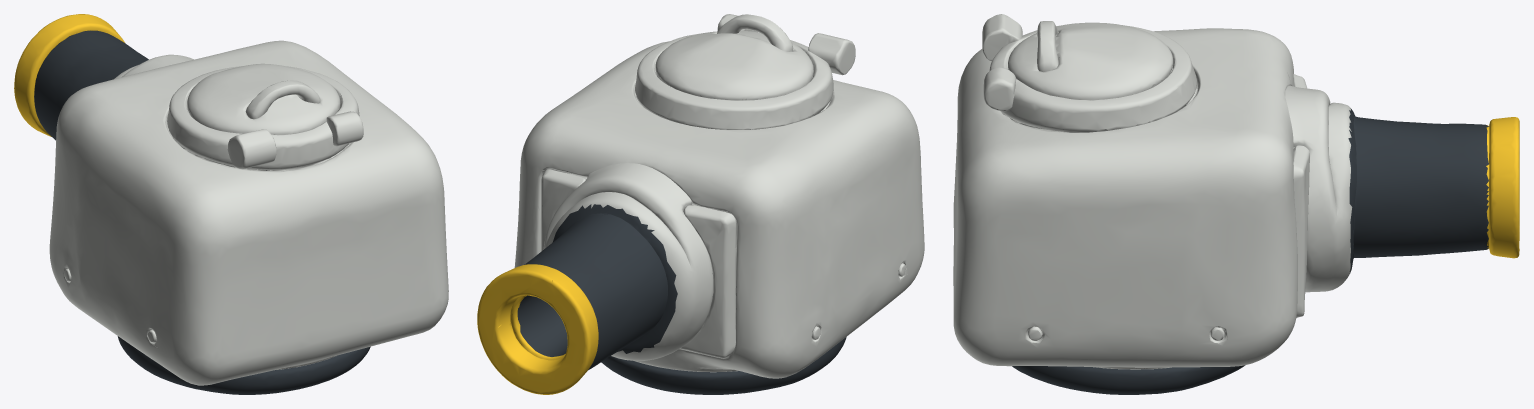
File: cannon_native.glb
3 renders of one model, left to right at view 1: azimuth 30°, elevation 25°; view 2: azimuth 150°, elevation 25°; view 3: azimuth 270°, elevation 25°, orthographic. The views are drawn at different scales.
Parts seen in each view (by area): view 1: Native proportion recolor; view 2: Native proportion recolor; view 3: Native proportion recolor.
Part boxes in pixels (box(x1,y1,x2,y2)): Native proportion recolor: box(14, 14, 448, 394); Native proportion recolor: box(477, 14, 924, 394); Native proportion recolor: box(953, 14, 1519, 394).
Size of the model in its own units: 1.19 by 1.17 by 1.9.
